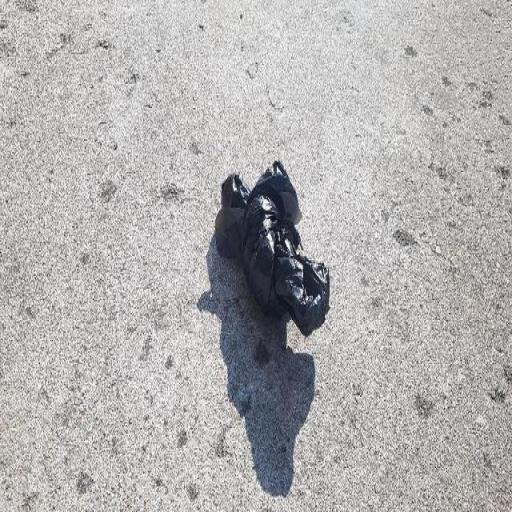plastic-bag: (212, 159, 332, 338)
